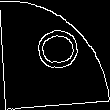O_W: (29, 32, 81, 78)
